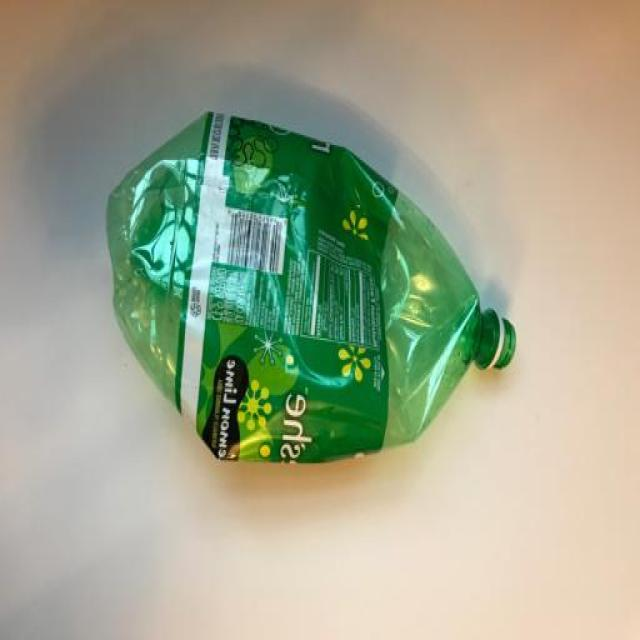plastic: (100, 110, 518, 465)
